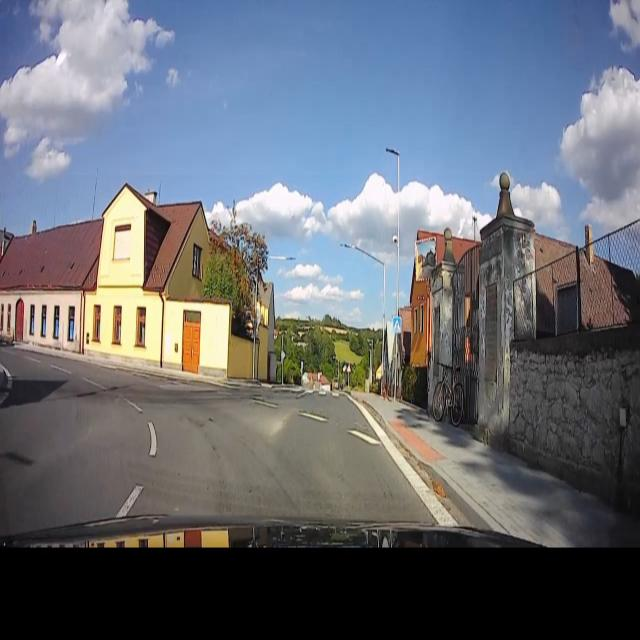Pedestrian crosswalk: (391, 314, 403, 335)
